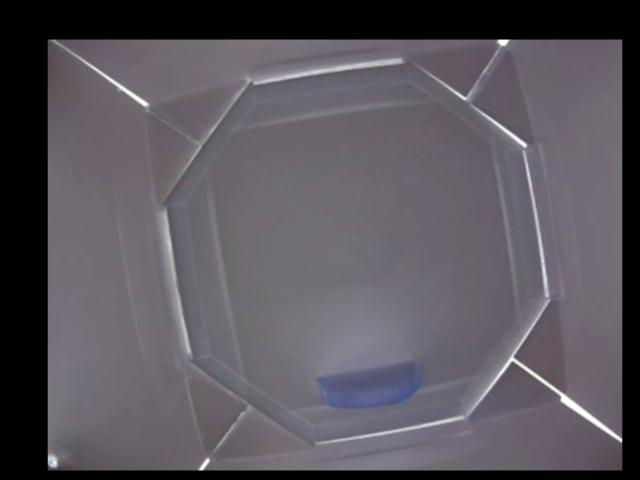Mooli: (314, 358, 421, 406)
